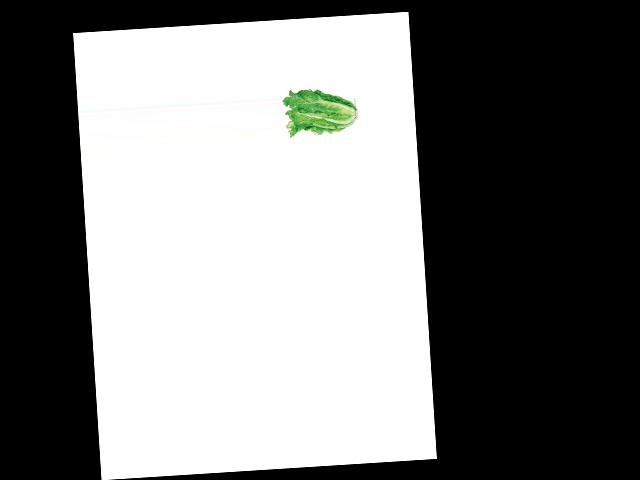lettuce: (281, 85, 357, 139)
